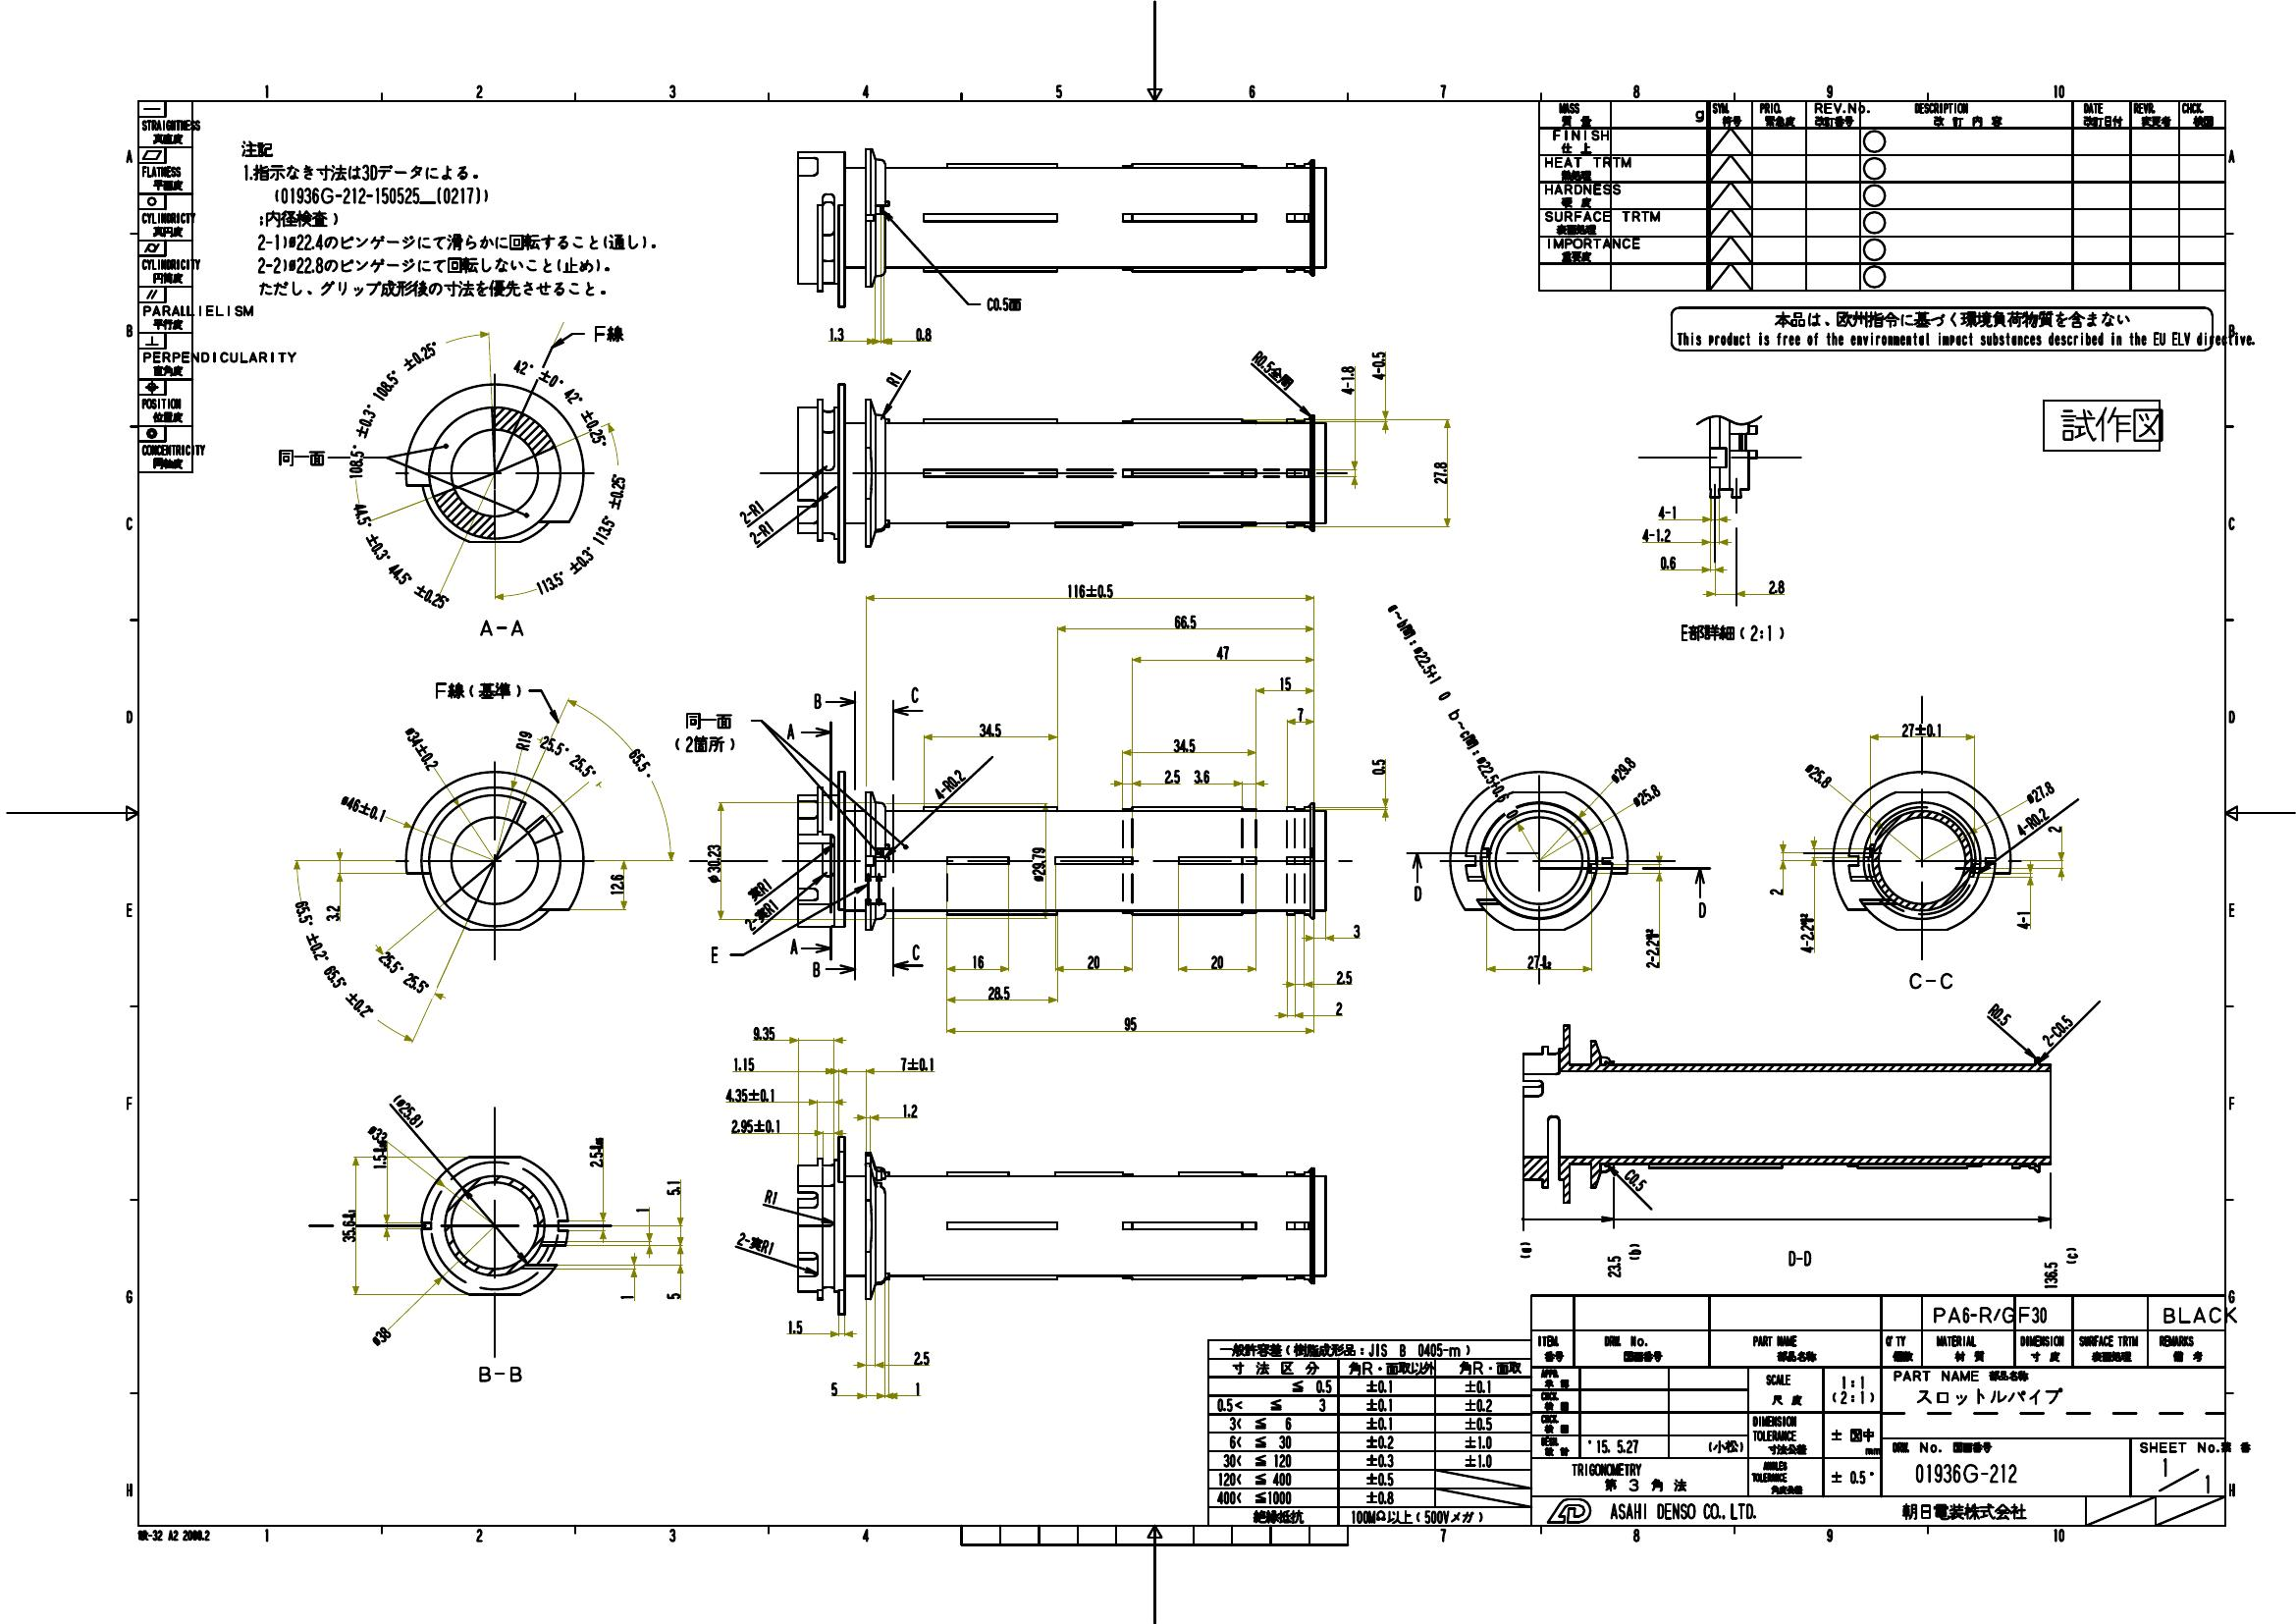anntotation_text: (239, 139, 659, 304), (1669, 306, 2213, 352), (2041, 401, 2161, 450), (671, 712, 738, 758), (1678, 622, 1785, 642), (432, 678, 522, 701), (474, 1359, 523, 1390), (137, 1527, 214, 1543), (1903, 968, 1955, 990), (476, 620, 529, 640), (274, 448, 329, 466), (1379, 615, 1426, 633), (1439, 724, 1490, 740), (590, 320, 625, 343), (1785, 1250, 1816, 1269), (1270, 369, 1295, 387), (810, 689, 826, 712), (2064, 1241, 2078, 1265), (1693, 900, 1711, 919), (806, 958, 822, 979), (706, 946, 724, 963), (1518, 1239, 1534, 1258), (787, 937, 801, 958), (1627, 1241, 1641, 1262), (782, 722, 798, 740), (905, 684, 921, 701), (1409, 884, 1425, 902), (908, 942, 921, 961)
dimension_text: (365, 359, 446, 380), (323, 431, 401, 452), (574, 497, 645, 520), (531, 559, 601, 580), (383, 576, 453, 598), (550, 404, 620, 425), (336, 520, 404, 541), (557, 722, 578, 789), (300, 898, 320, 965), (337, 961, 357, 1026), (393, 942, 413, 1005), (511, 362, 567, 383), (1460, 779, 1532, 793), (1400, 666, 1463, 682), (729, 1116, 782, 1134), (411, 721, 429, 772), (355, 784, 372, 835), (726, 1084, 775, 1102), (1065, 582, 1114, 599), (984, 292, 1022, 313), (1797, 909, 1815, 953), (1901, 721, 1943, 738), (704, 842, 722, 884), (388, 1102, 429, 1120), (1644, 926, 1658, 972), (898, 1056, 936, 1072), (743, 907, 780, 923), (931, 777, 970, 791), (2013, 814, 2052, 828), (2038, 1023, 2076, 1037), (341, 1209, 357, 1243), (1641, 526, 1674, 541), (2041, 1260, 2059, 1290), (1031, 845, 1045, 882), (736, 1236, 773, 1250), (1607, 761, 1639, 777), (1339, 364, 1354, 395), (1368, 350, 1384, 381), (632, 749, 648, 780), (588, 1134, 603, 1169), (2025, 784, 2055, 800), (729, 1055, 757, 1070), (750, 1023, 778, 1039), (1801, 768, 1832, 782), (1432, 459, 1448, 487), (1764, 576, 1787, 596), (1604, 1255, 1623, 1278), (515, 726, 532, 750), (978, 721, 1003, 738), (1632, 789, 1662, 803), (745, 881, 775, 895), (986, 982, 1012, 998), (898, 1100, 921, 1118), (910, 323, 933, 341), (372, 1141, 386, 1169), (1527, 953, 1551, 968), (608, 872, 624, 896), (1172, 736, 1196, 752), (1987, 1007, 2011, 1023), (785, 1316, 806, 1334), (1249, 353, 1275, 367), (1367, 758, 1388, 775), (1191, 766, 1212, 784), (664, 1176, 680, 1199), (2015, 907, 2031, 930), (1655, 503, 1678, 518), (1657, 554, 1679, 569), (1173, 613, 1196, 629), (1625, 1172, 1648, 1188), (740, 504, 764, 518), (748, 526, 773, 540), (912, 1348, 931, 1366), (884, 367, 901, 387), (1207, 951, 1226, 968), (1330, 998, 1349, 1016), (1335, 967, 1354, 984), (1347, 921, 1367, 939), (1163, 766, 1182, 784), (1275, 673, 1295, 691), (1214, 643, 1233, 661), (1119, 1014, 1137, 1032), (371, 1329, 390, 1345), (323, 903, 339, 923), (1289, 705, 1309, 721), (826, 327, 847, 341), (664, 1287, 680, 1304), (970, 953, 987, 968), (762, 1186, 780, 1202), (1765, 884, 1785, 898), (1086, 954, 1101, 968), (369, 1127, 386, 1139), (632, 1204, 648, 1216), (829, 1380, 838, 1396), (618, 1292, 634, 1301), (2047, 824, 2062, 833), (913, 1380, 921, 1396)
object: (798, 1135, 1326, 1315), (798, 383, 1325, 562), (1523, 1025, 2050, 1204), (796, 148, 1326, 308), (796, 772, 1326, 930), (1830, 770, 2010, 930), (1449, 772, 1627, 932), (404, 772, 583, 930), (406, 383, 583, 541), (420, 1156, 567, 1295), (1697, 413, 1760, 497)
title_block: (1210, 1297, 2224, 1527), (1539, 102, 2224, 292), (137, 100, 193, 473)
